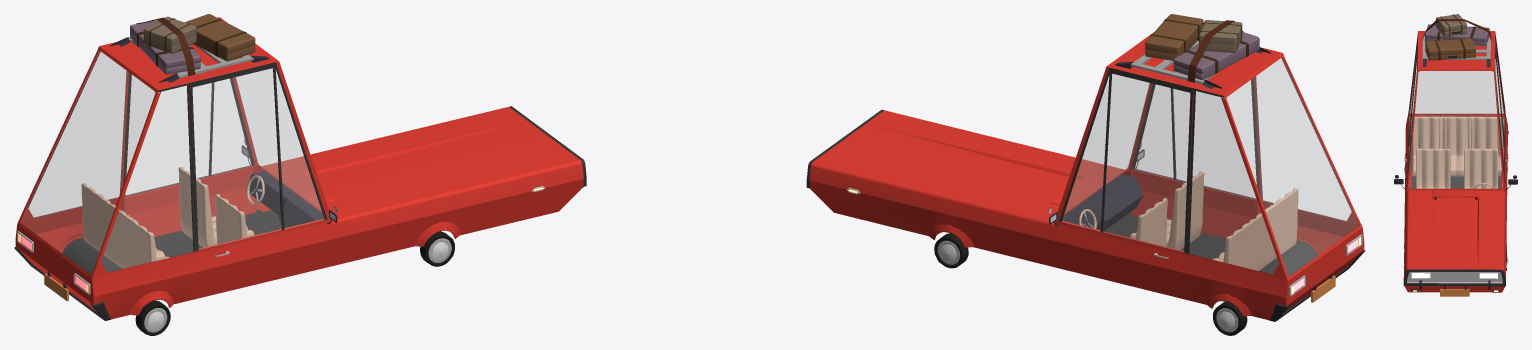
The model's file is cartoon_car-transformed.glb.
3 views of the same model, side by side, from view 1: azimuth 30°, elevation 25°; view 2: azimuth 150°, elevation 25°; view 3: azimuth 270°, elevation 25° (orthographic). The views are drawn at different scales.
Visible parts, largest first — view 1: Object_7, Object_8; view 2: Object_7, Object_8; view 3: Object_7, Object_8, Object_14.
Part boxes in pixels (box(x1,y1,x2,y2)): Object_7: box(14, 14, 586, 335); Object_8: box(21, 51, 324, 273); Object_7: box(806, 14, 1365, 335); Object_8: box(1062, 58, 1358, 275); Object_7: box(1394, 14, 1517, 296); Object_8: box(1409, 52, 1504, 188); Object_14: box(1411, 273, 1497, 278).
Size of the model in its own units: 18.86 by 8.33 by 5.33.
5 materials, 5 textured.
